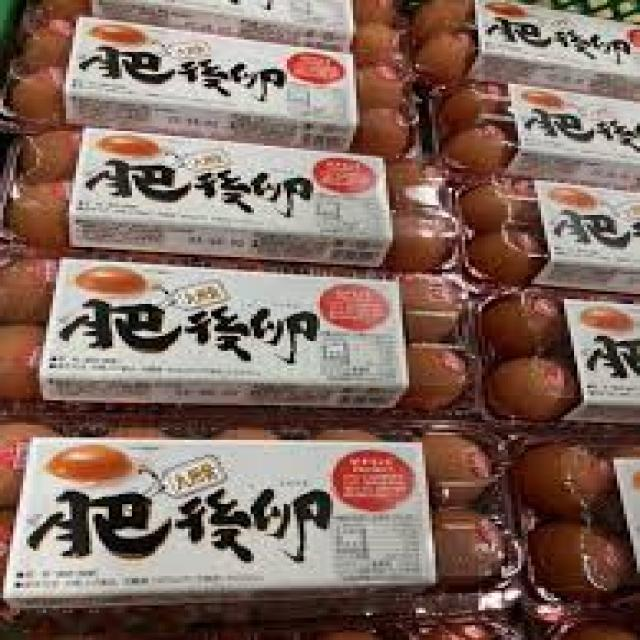egg: (0, 418, 521, 605), (0, 259, 472, 413), (7, 128, 462, 274), (7, 17, 402, 153), (449, 166, 640, 297), (412, 0, 640, 106), (468, 289, 640, 427), (439, 82, 640, 190), (511, 440, 640, 605)
